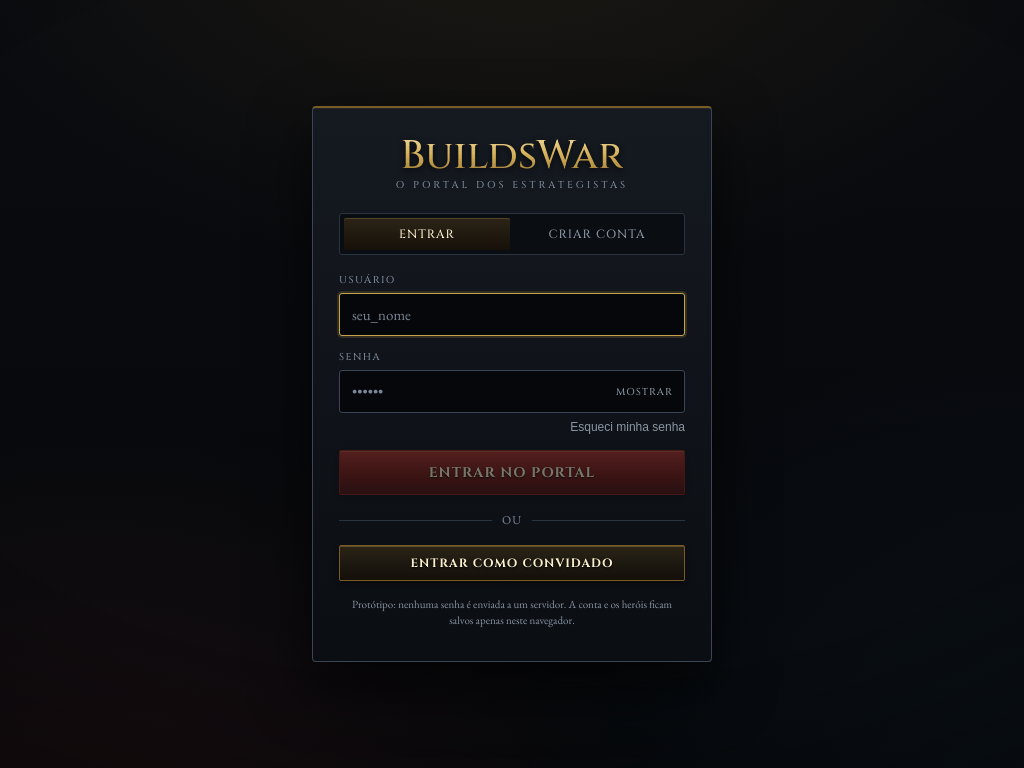
Scenario: App (smoke) › entra no jogo e abre na Campanha (nova porta de entrada)
This screenshot has width=1024, height=768.
Click the button "Entrar como convidado" at (512, 563), box top-left (339, 545), bottom-right (685, 581)
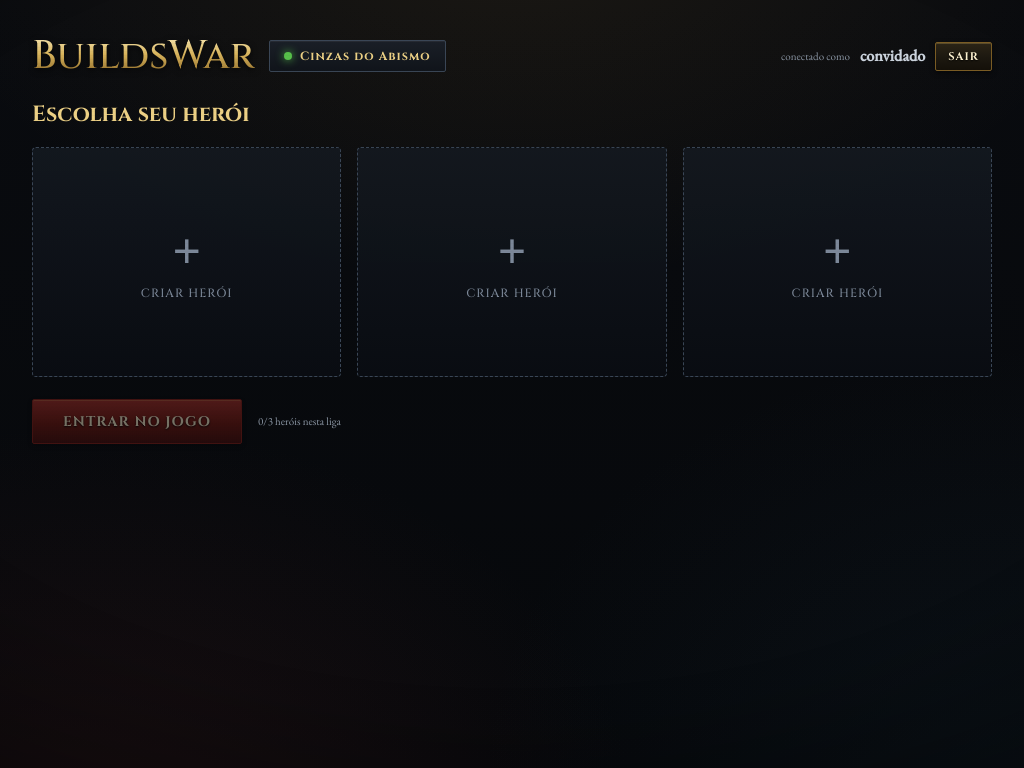
Click the 1st button "+ Criar herói" at (187, 262), box top-left (32, 147), bottom-right (341, 377)
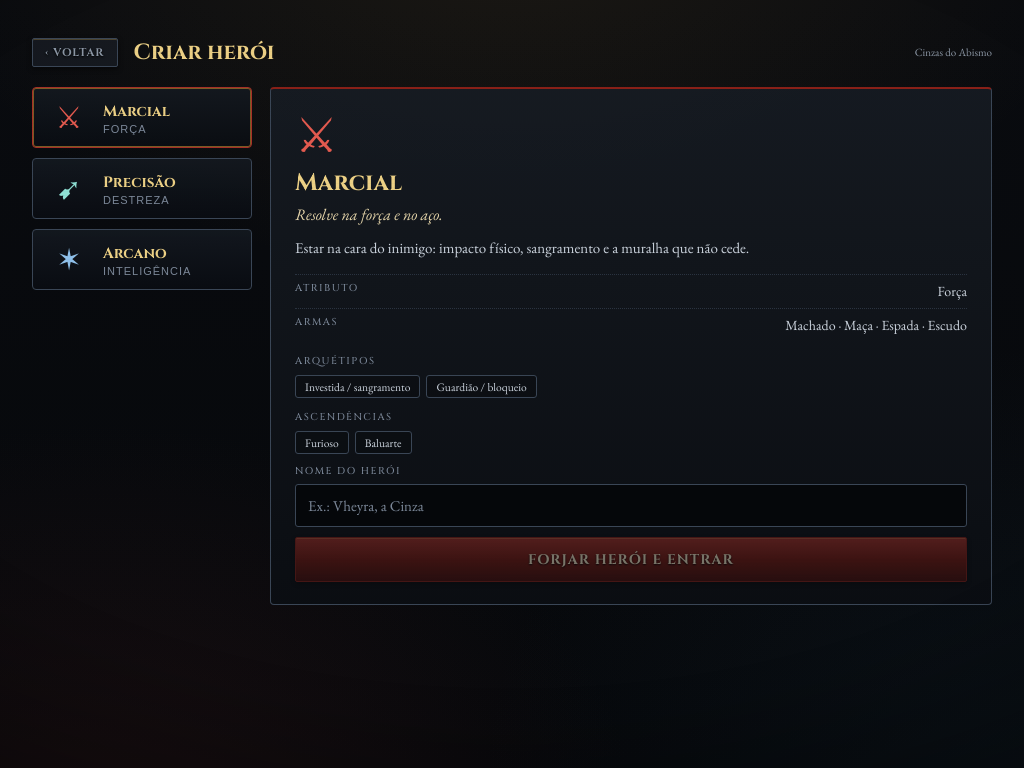
Type "Testa" into the field with placeholder "Ex.: Vheyra, a Cinza" at (631, 506), box top-left (295, 484), bottom-right (967, 527)
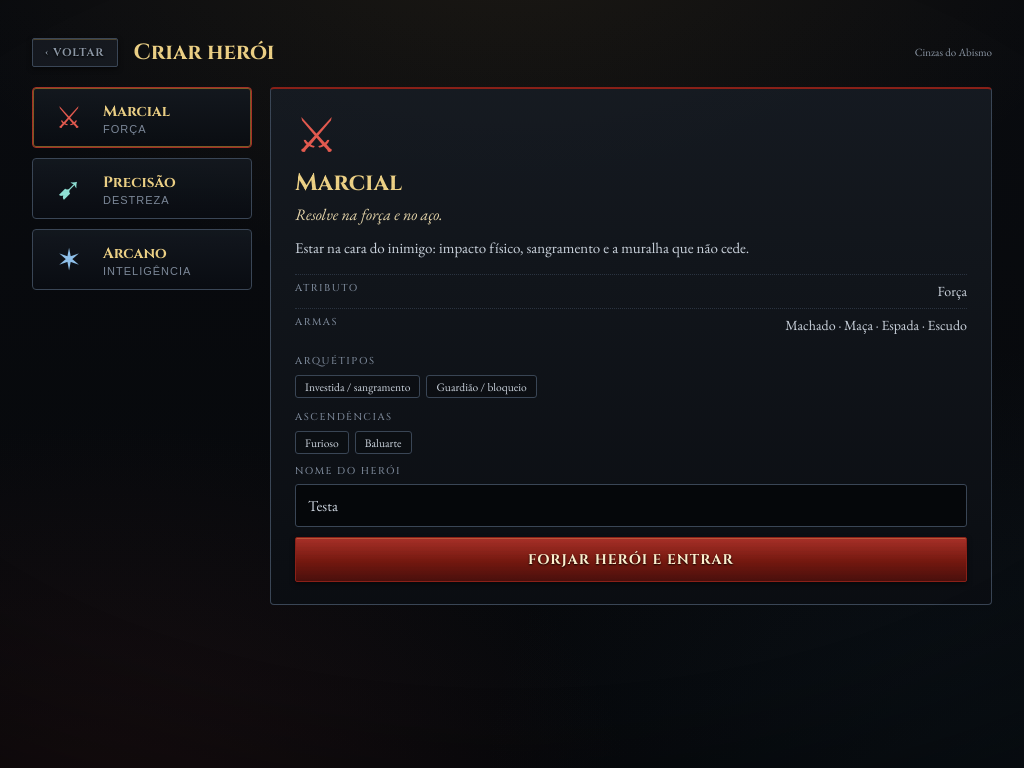
Click the button "Forjar herói e entrar" at (631, 560), box top-left (295, 537), bottom-right (967, 582)
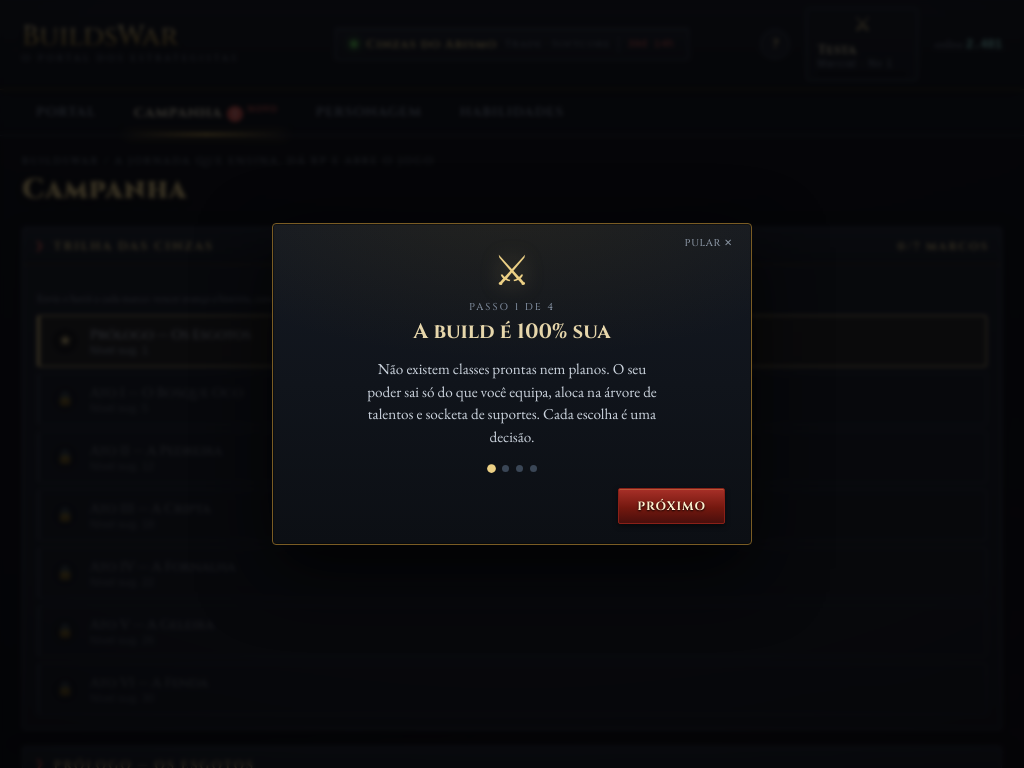
Expected: the heading "Campanha" is shown, top-left (22, 171), bottom-right (188, 208)
